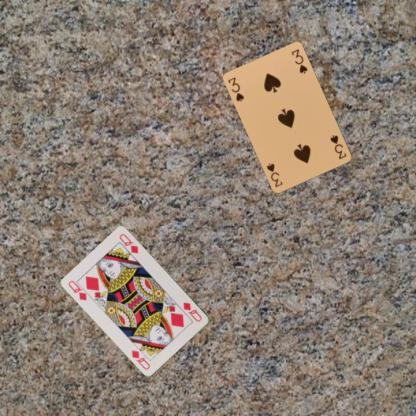3s: (226, 74, 246, 104), (327, 132, 348, 160)
Qd: (66, 278, 93, 302), (181, 300, 203, 323)
